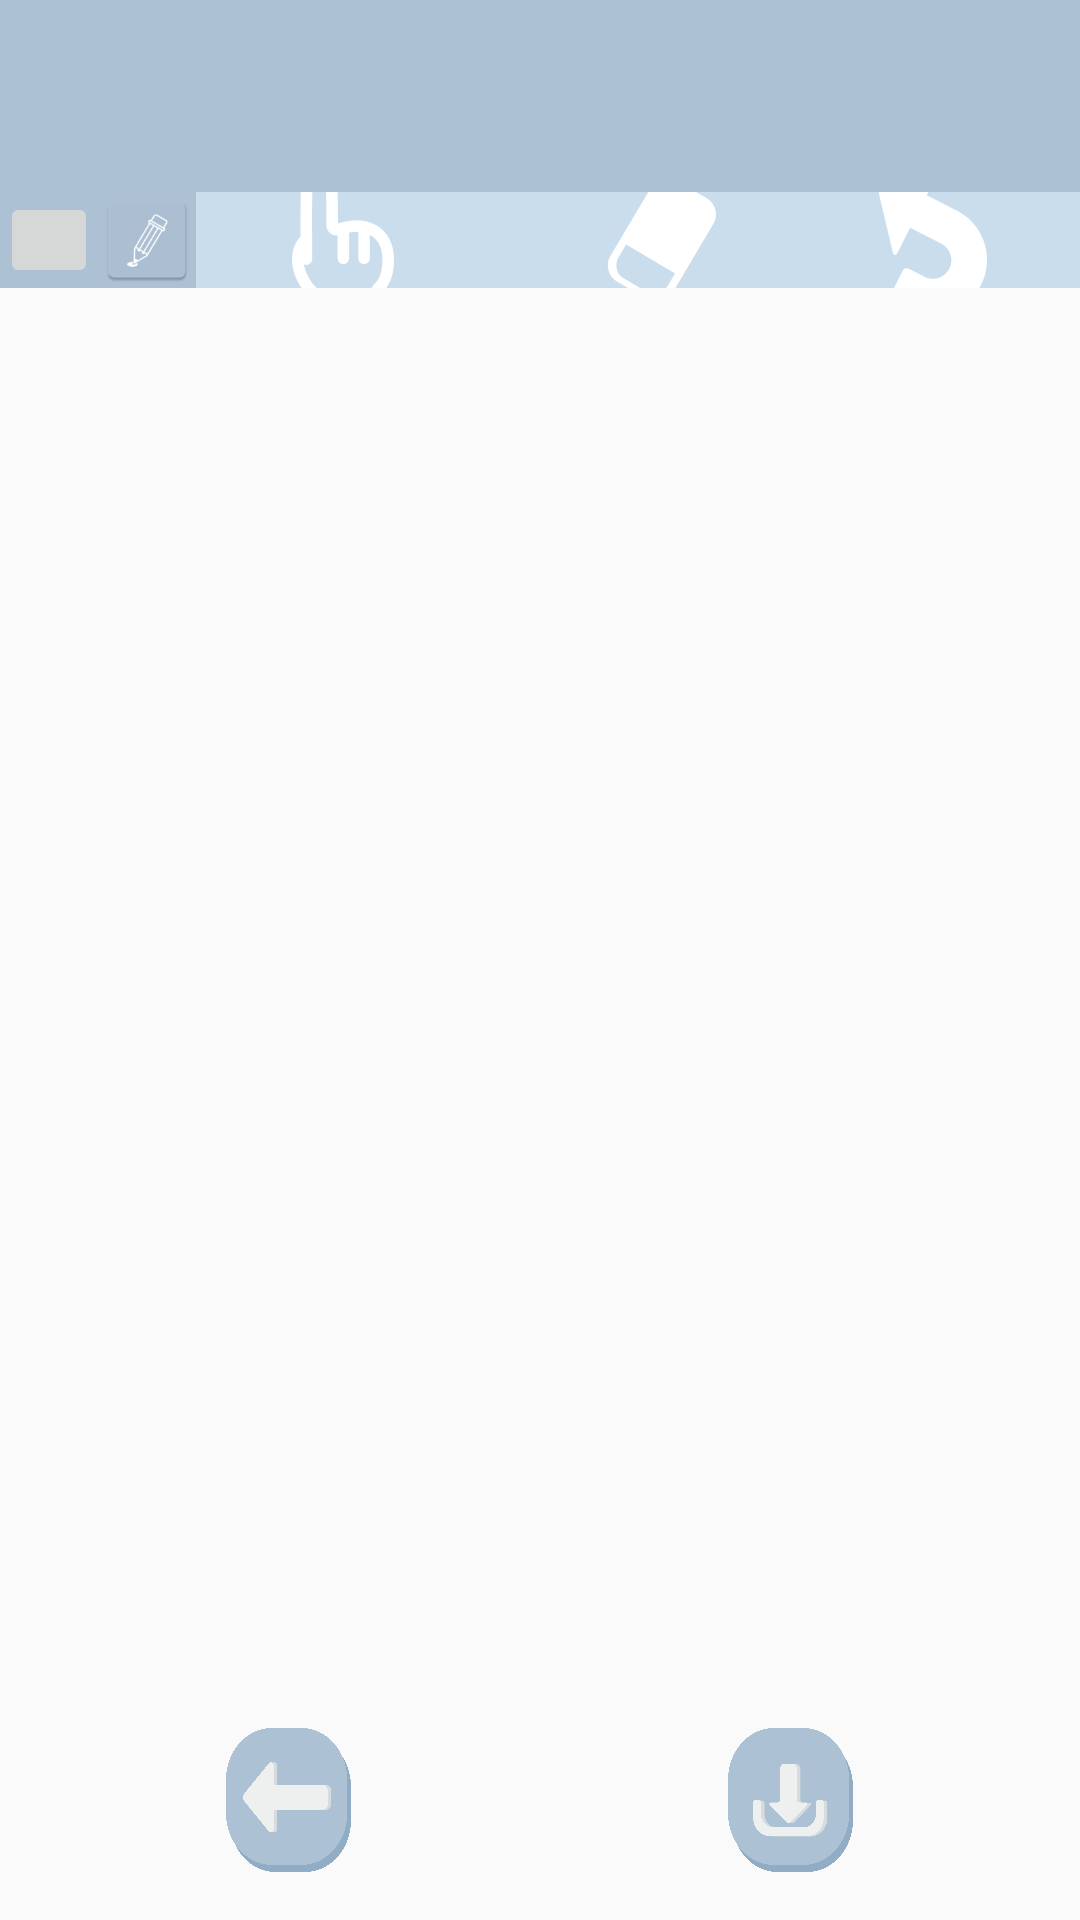

Screen size 1080x1920. Icon name, then its center in pixels as (x=x, y=y):
back: (x=288, y=1800)
pen: (x=147, y=247)
save: (x=790, y=1800)
